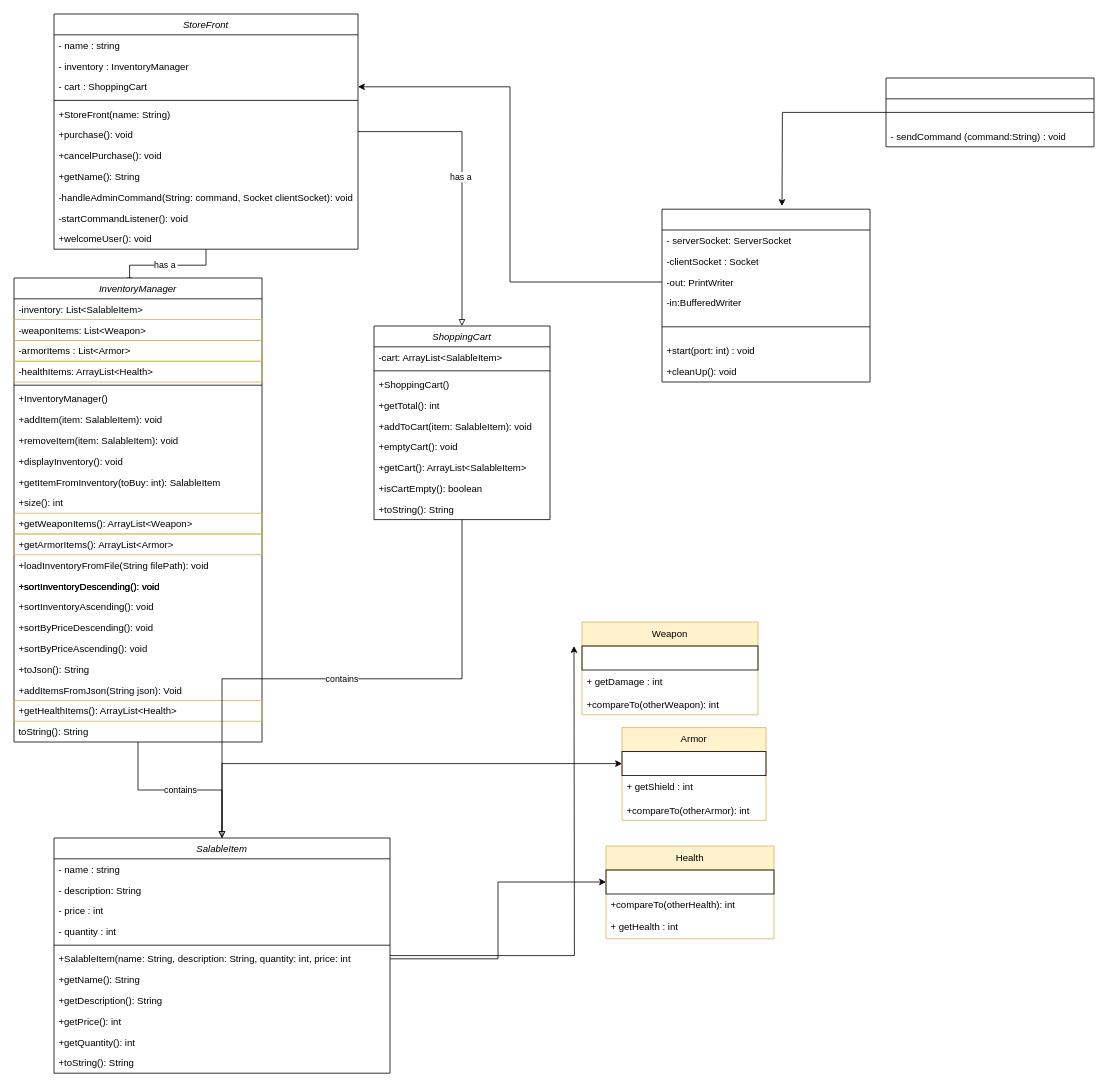
This 1108x1090 diagram has some shape labels left out. The box of each missing label's shape, as (x1, y1, x2, y2) in pixels:
- damage : int: (581, 645, 758, 670)
- health: int: (605, 869, 774, 894)
- shield : int: (621, 751, 766, 776)
AdministrationService: (661, 208, 870, 382)
AdminTool: (885, 77, 1094, 147)
